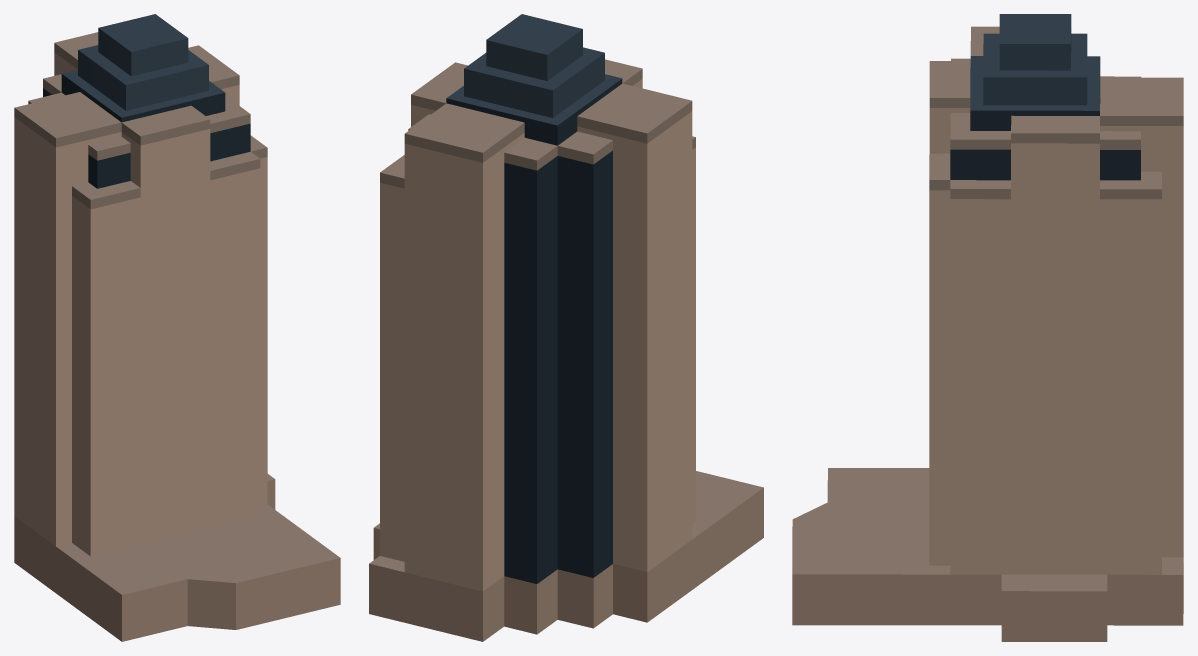
Rendered from one_utah_center.glb.
3 views of the same model, side by side, from view 1: azimuth 30°, elevation 25°; view 2: azimuth 150°, elevation 25°; view 3: azimuth 270°, elevation 25° (orthographic). The views are drawn at different scales.
Visible parts, largest first — view 1: One_Utah_Center; view 2: One_Utah_Center; view 3: One_Utah_Center.
Part boxes in pixels (x1=…): One_Utah_Center: x1=14, y1=14, x2=340, y2=641; One_Utah_Center: x1=369, y1=14, x2=763, y2=641; One_Utah_Center: x1=792, y1=14, x2=1183, y2=641.
Size of the model in its own units: 52.16 by 109 by 69.94.
